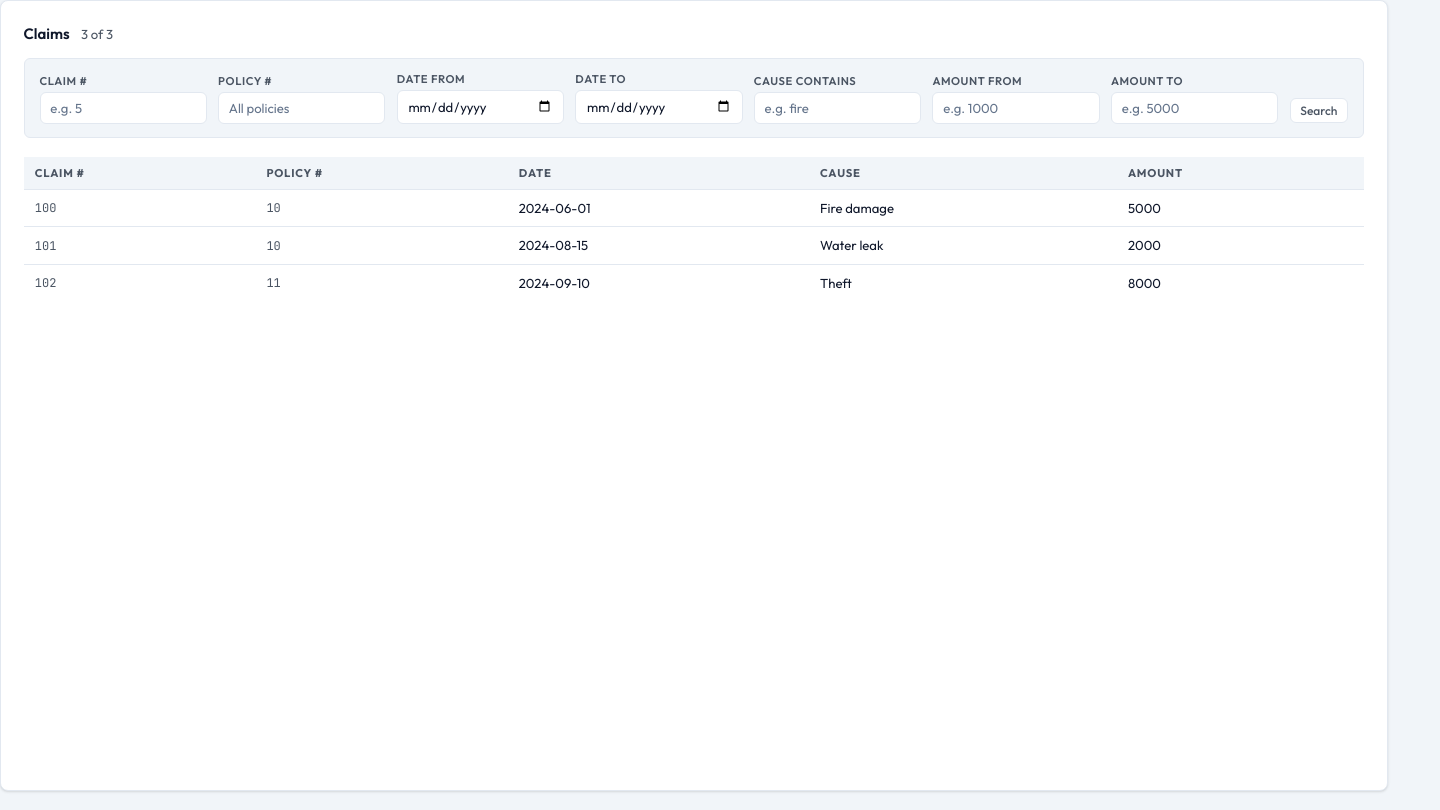
ClaimList – detail panel › clicking Delete shows a confirmation warning
What coordinates should you click on to do the following:
click the text "Fire damage"
I would click on:
 (963, 208)
Its box is [809,189,1117,226].
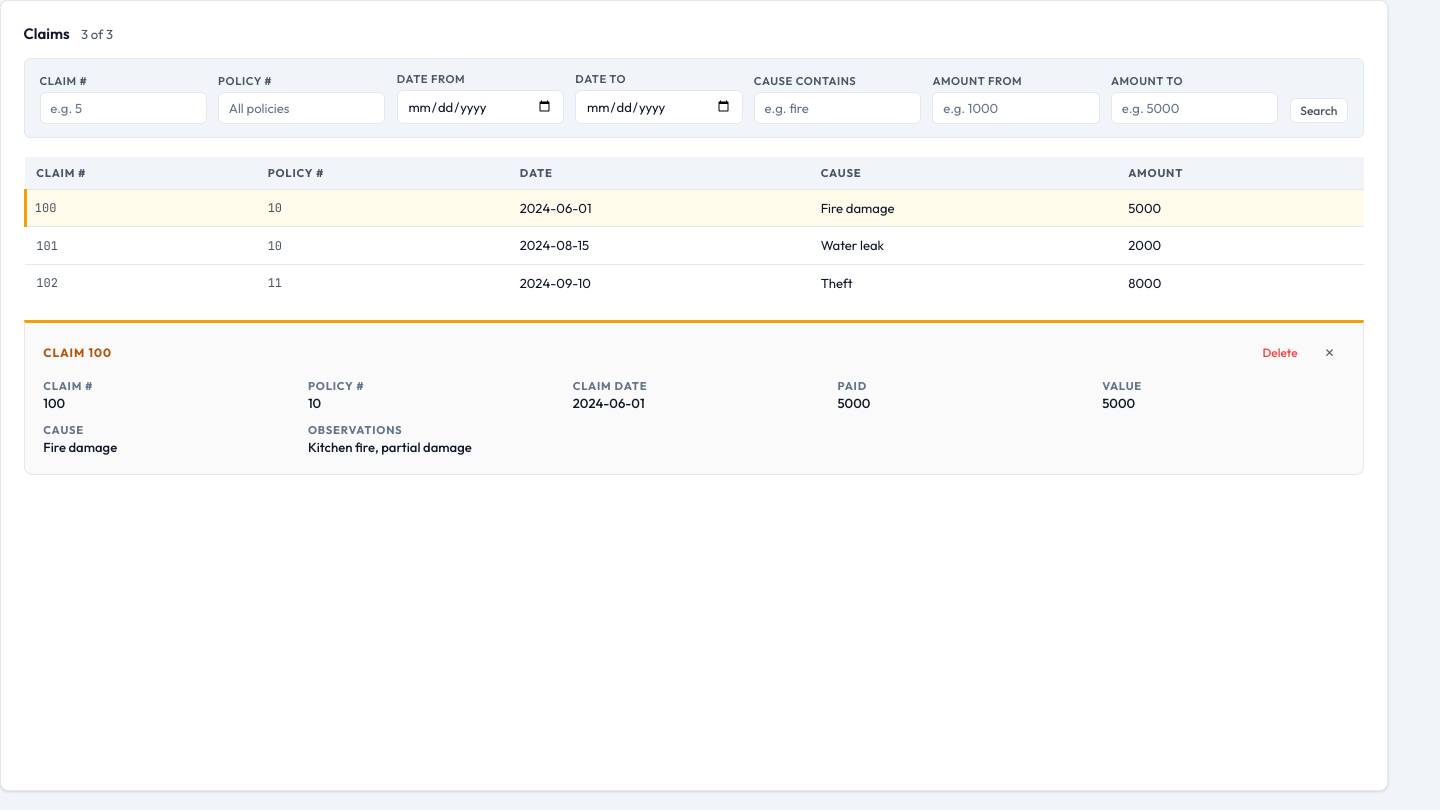
What coordinates should you click on to do the following:
click the button "Delete"
I would click on:
 (1280, 353)
Its box is [1253,342,1307,364].
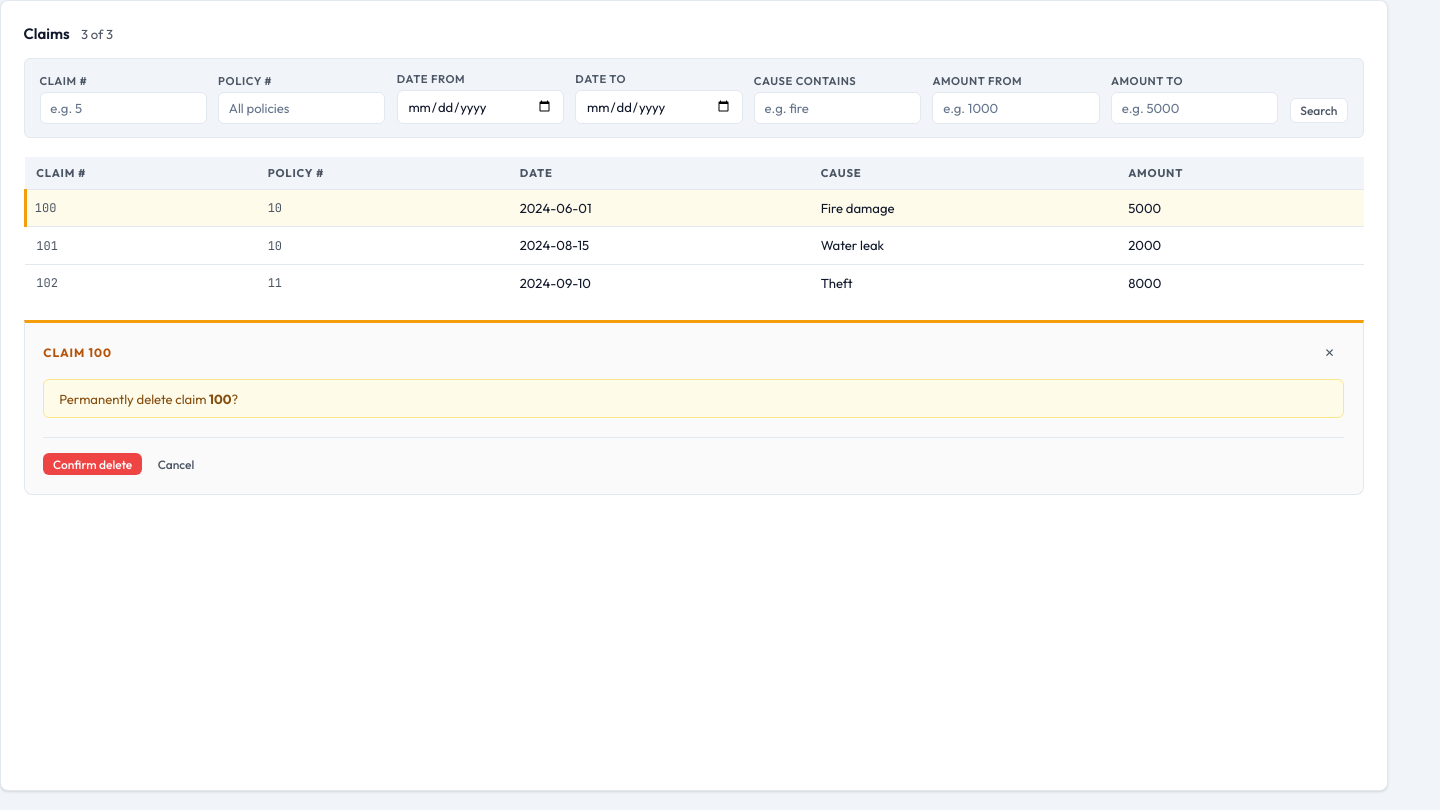
Check: the button "Confirm delete" is shown, box [43,453,142,475]
Check: the text "Permanently delete claim 100?" is shown, box [43,379,1344,418]
